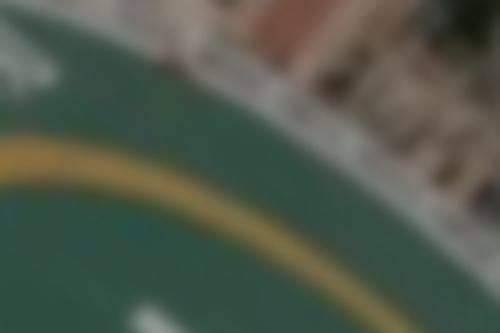Apron: (1, 124, 428, 327)
